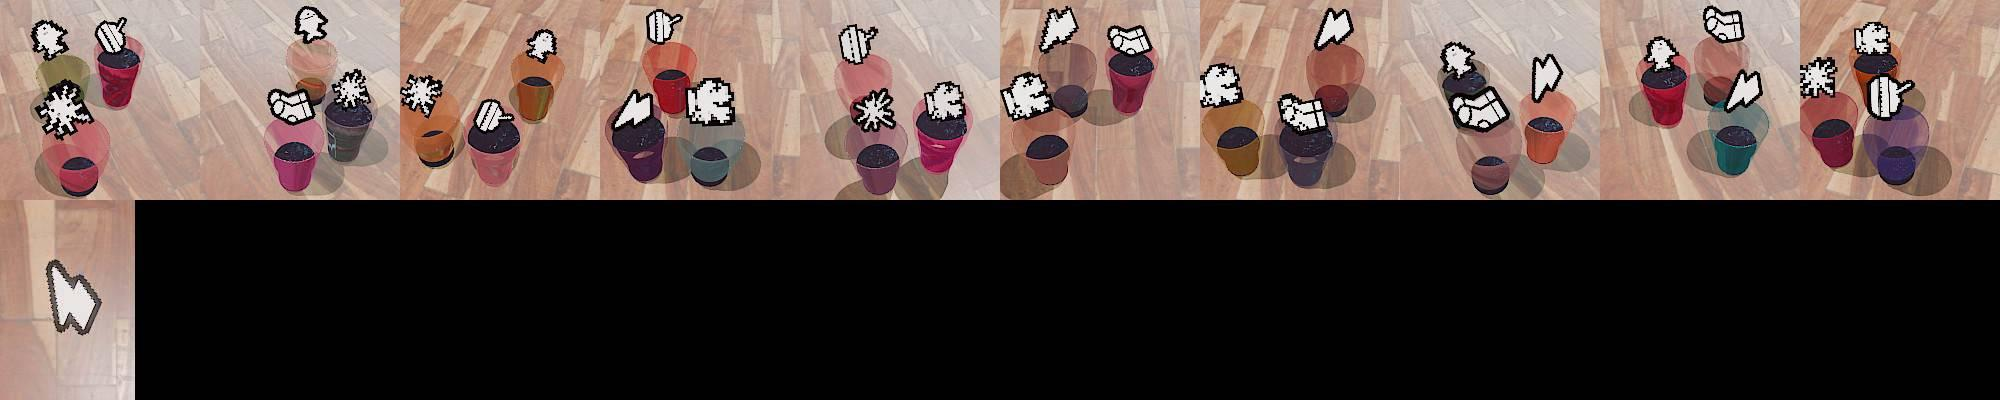icon: (43, 257, 103, 338), (33, 78, 96, 140), (1449, 85, 1511, 131), (685, 76, 737, 127), (1000, 71, 1052, 121), (849, 85, 898, 132), (1865, 74, 1915, 120), (1277, 92, 1328, 132), (401, 71, 445, 117), (921, 79, 967, 122), (267, 85, 316, 125), (611, 88, 656, 131), (1038, 5, 1078, 54), (1722, 68, 1764, 112), (1200, 62, 1241, 108), (1314, 6, 1353, 52), (330, 69, 372, 111), (31, 19, 71, 62), (1798, 56, 1838, 99), (838, 20, 878, 64), (1531, 52, 1564, 102), (1107, 22, 1153, 57), (1703, 5, 1745, 43), (293, 5, 329, 47), (1440, 41, 1478, 78), (473, 97, 513, 132), (1643, 36, 1680, 73), (1855, 20, 1893, 56), (645, 9, 682, 45), (94, 18, 129, 55), (524, 28, 560, 62)
